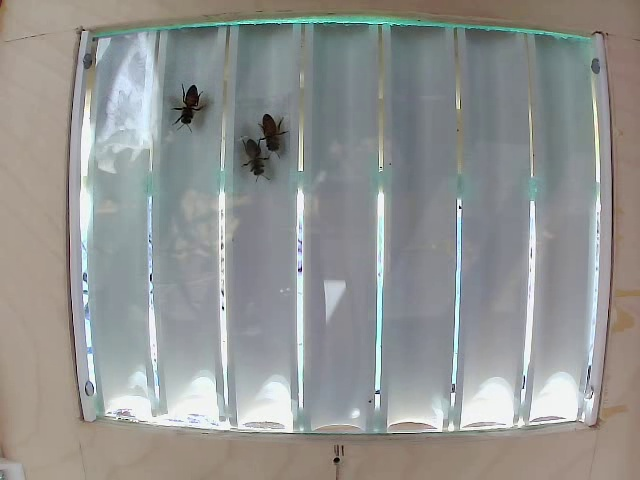bee: (238, 125, 274, 188), (172, 81, 203, 151), (256, 110, 298, 158)
